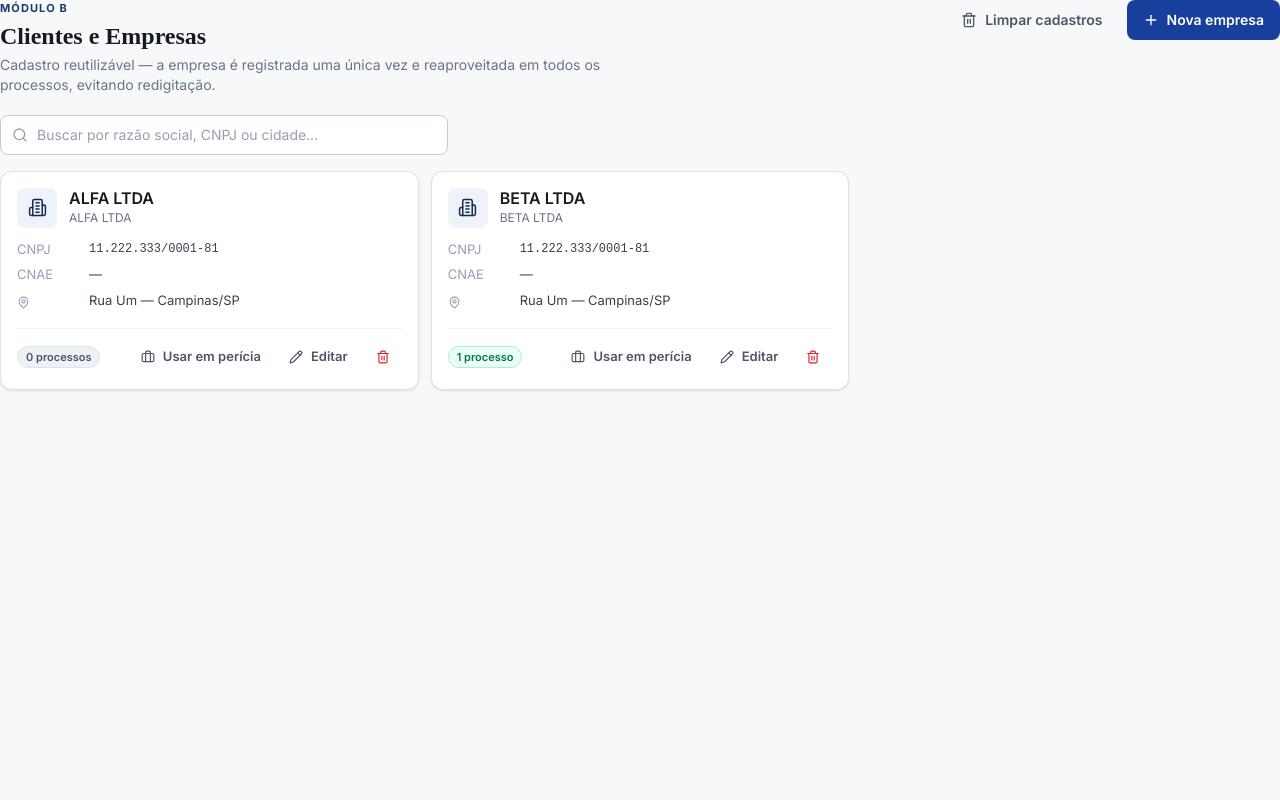
Clientes — limpeza dos cadastros de teste › avisa antes que empresa citada em processo vai ficar
Step 1. Click the button "Limpar cadastros" → (1032, 20), box [945,0,1119,40]
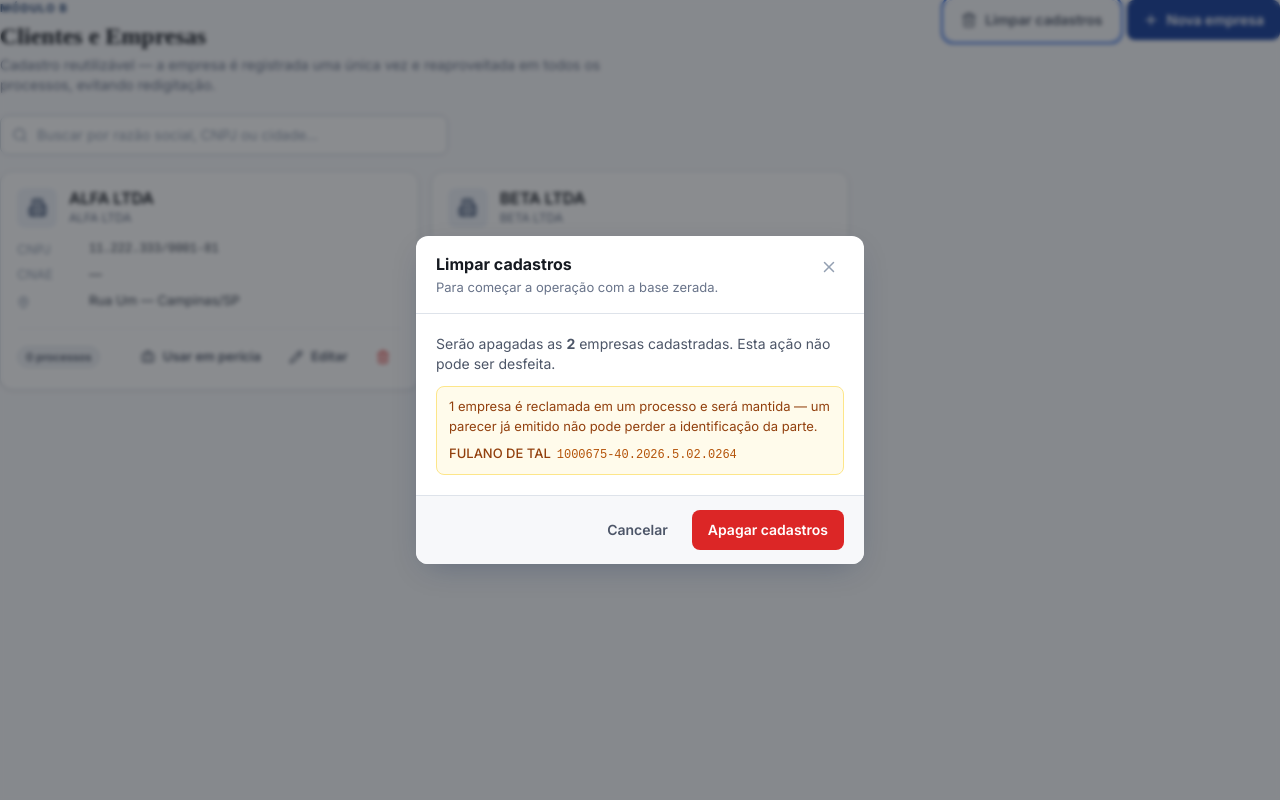
Expected: the text "é reclamada em um processo e será mantida" is shown, [458,398,790,414]
